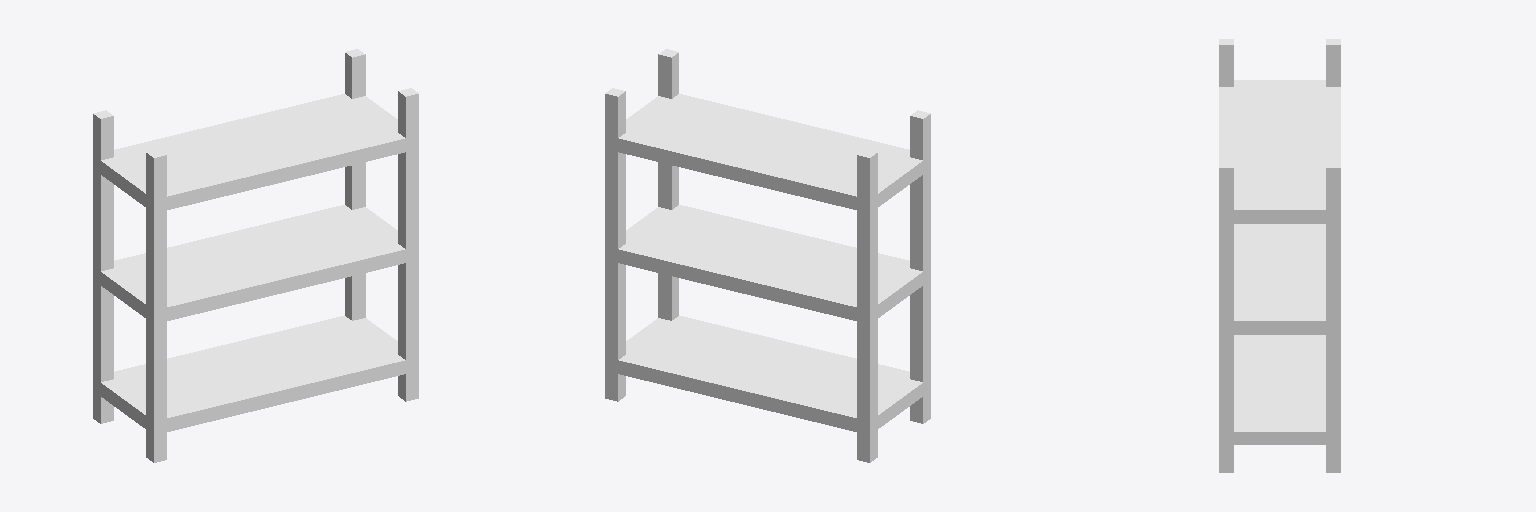
File: Shelf.obj
3 renders of one model, left to right at view 1: azimuth 30°, elevation 25°; view 2: azimuth 150°, elevation 25°; view 3: azimuth 270°, elevation 25°, orthographic.
Bounding box in the file's own units: 20 × 22 × 8.